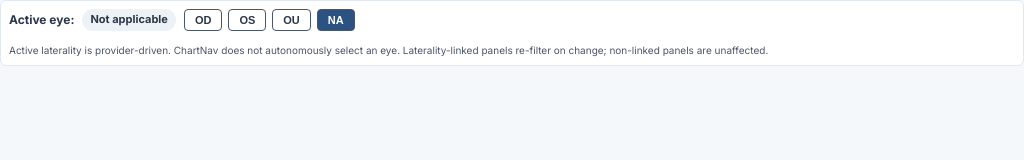
LateralitySwitcher › PATCHes laterality on click and refetches state
Click the button with test id "laterality-switcher-option-OD".
click(203, 20)  # box [184,9,222,31]
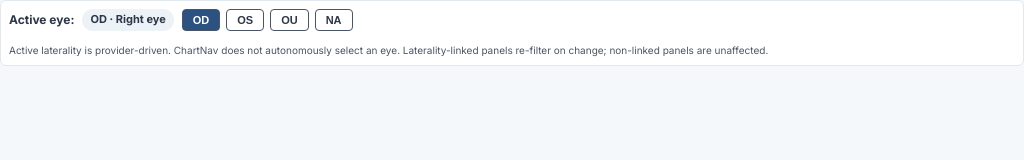
Result: the text with test id "laterality-switcher-active" reads "OD · Right eye" at [90,12,166,26]
